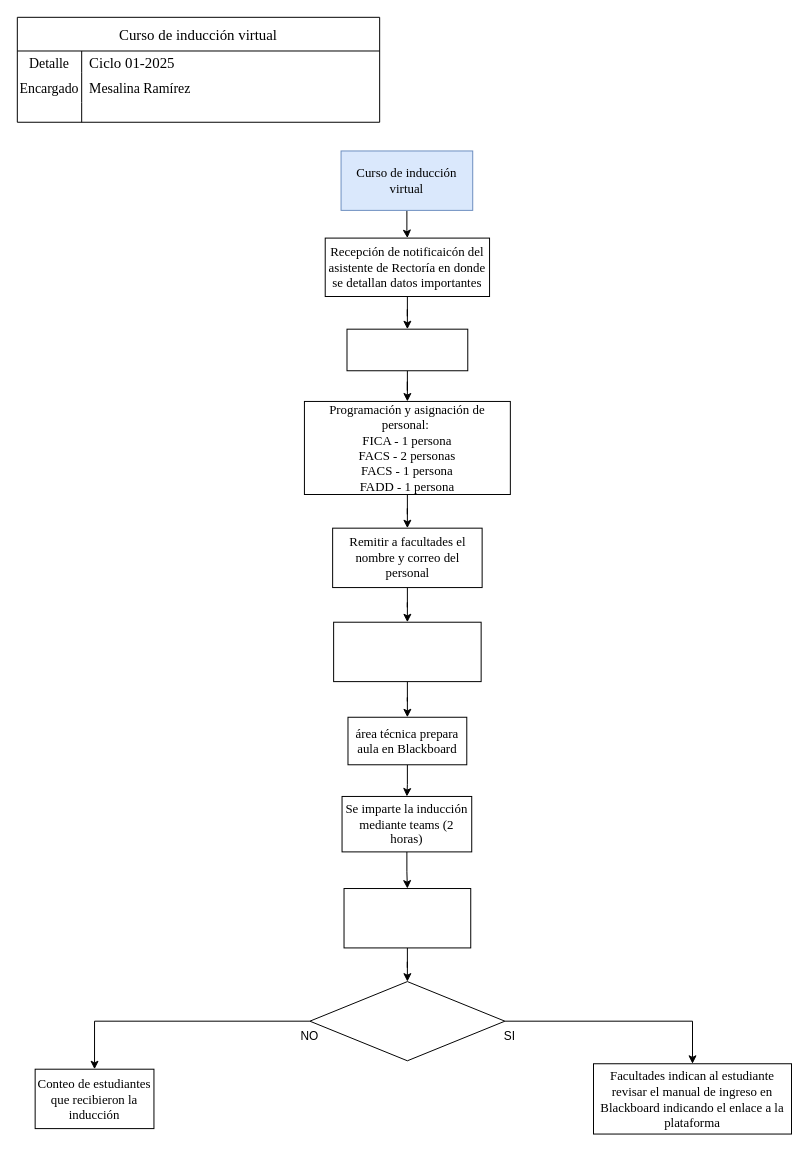
Image size: 809x1151. Some labels were removed from this diagram. Here are the shapes that lost their labels. From the top down, the box of each, then its label:
(346, 328, 468, 371): Revisión de la asignación de cursos
(333, 621, 481, 682): Facultades envian link de teams tanto a estudiantes como a colaborades
(343, 888, 471, 948): Se da por finalizada la inducción para los estudiantes
(309, 981, 505, 1061): ¿nuevo ingreso en periodo extraordinario?
